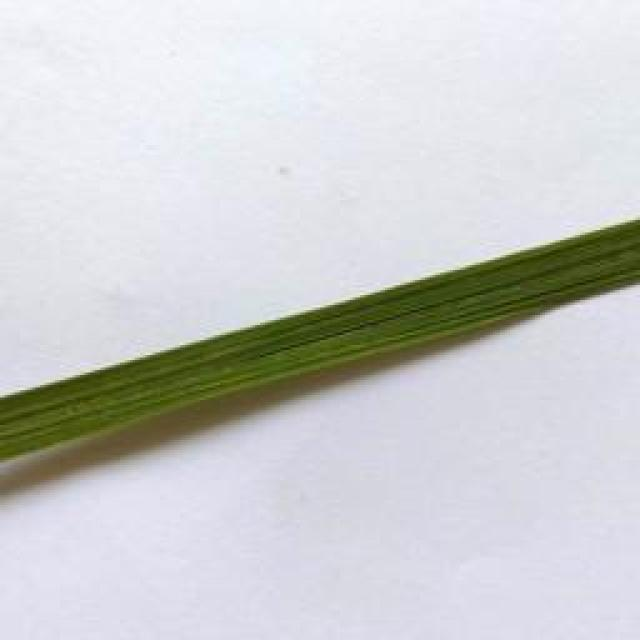Healthy-Plant: (0, 216, 640, 463)
